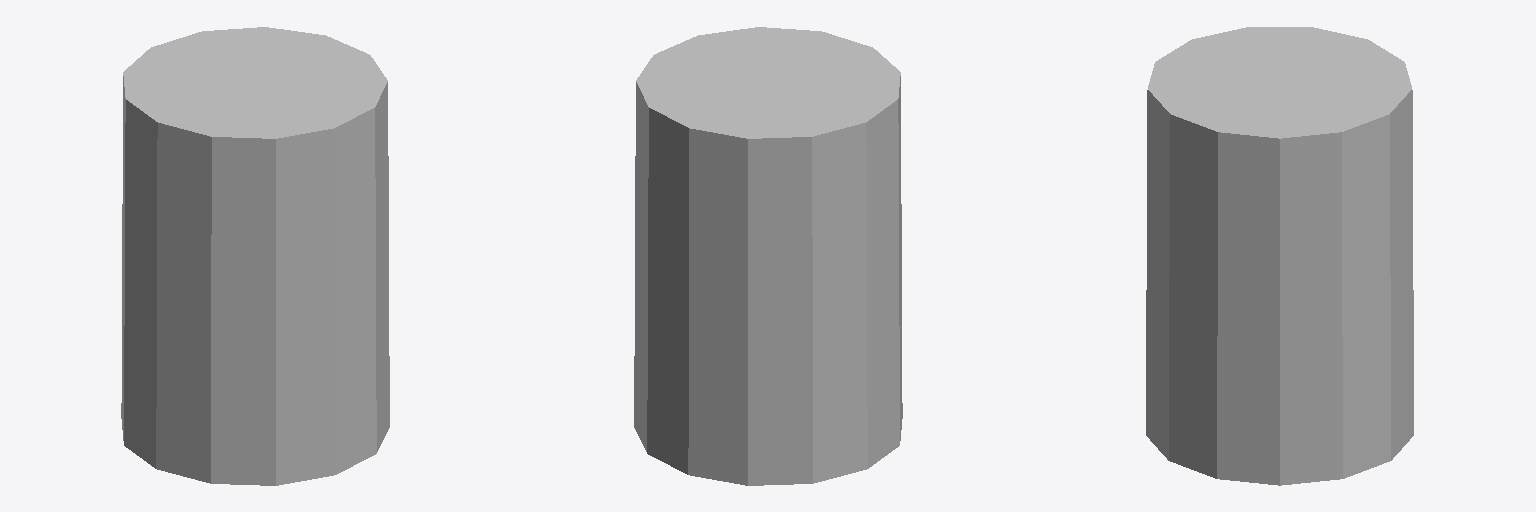
The model's file is Can4.obj.
The picture shows the model from 3 angles: view 1: azimuth 30°, elevation 25°; view 2: azimuth 150°, elevation 25°; view 3: azimuth 270°, elevation 25°; orthographic projection.
Visible parts, largest first — view 1: Canned_Food; view 2: Canned_Food; view 3: Canned_Food.
Boxes of the visible parts, x1,y1,x2,y2 form: Canned_Food: [121, 27, 389, 485]; Canned_Food: [634, 27, 902, 485]; Canned_Food: [1146, 27, 1413, 485].
Size of the model in its own units: 0.62 by 0.8851 by 0.6218.